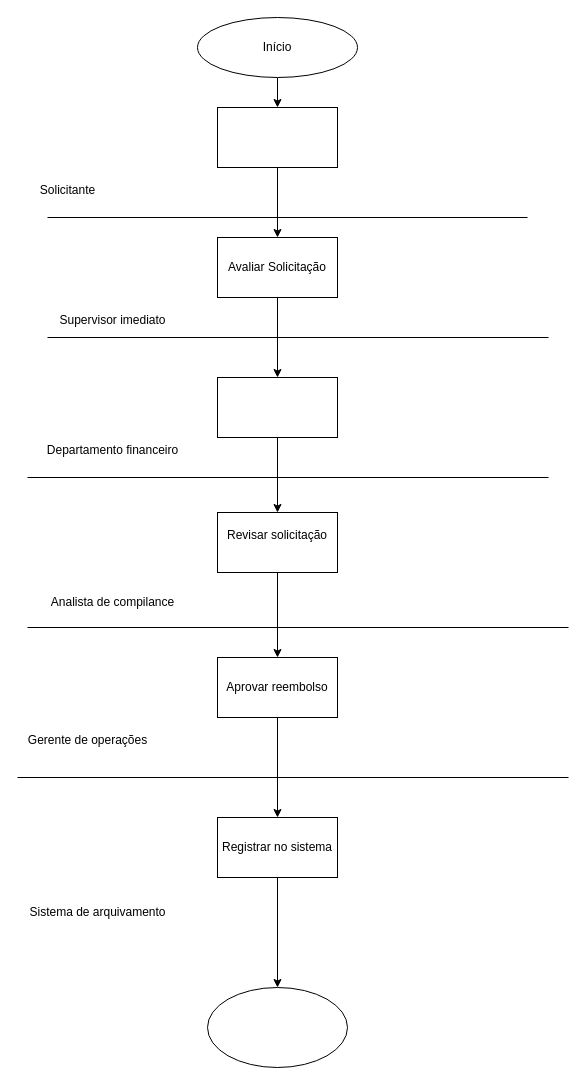
The diagram is 587 pixels wide and 1085 high, and some of its shapes have lost their labels. The centre of each missing label's shape, as x and y in pixels:
"Fim" goes at pixel 277 1027.
"Solicitante preenche formulário" goes at pixel 277 137.
"Verificar orçamento" goes at pixel 277 407.
